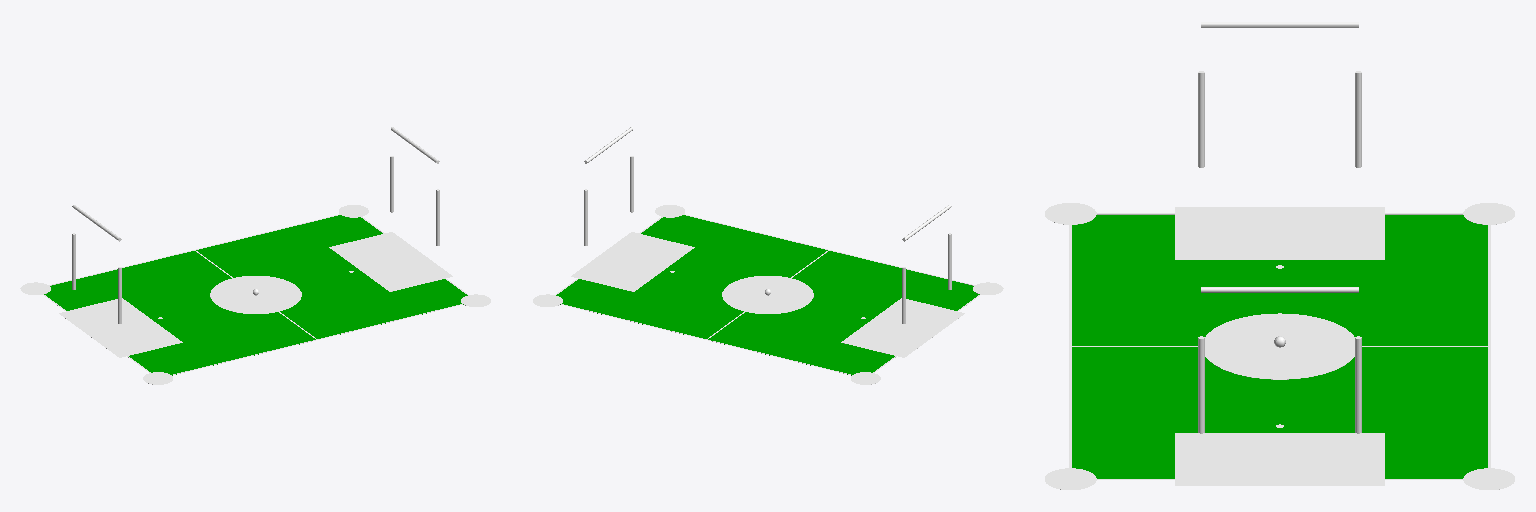
robot.urdf — T1_Soccer_Realistic:
<?xml version="1.0" encoding="utf-8"?>
<robot name="T1_Soccer_Realistic">
  <!-- 世界链接 -->
  <link name="world"/>

  <!-- 足球场地面 -->
  <link name="field_base">
    <inertial>
      <origin xyz="0 0 0" rpy="0 0 0" />
      <mass value="0" />
      <inertia ixx="0" ixy="0" ixz="0" iyy="0" iyz="0" izz="0" />
    </inertial>
    <visual>
      <origin xyz="0 0 0" rpy="0 0 0" />
      <geometry>
        <box size="12 8 0.01" />
      </geometry>
      <material name="green">
        <color rgba="0.0 0.7 0.0 1.0" />
      </material>
    </visual>
    <collision>
      <origin xyz="0 0 0" rpy="0 0 0" />
      <geometry>
        <box size="12 8 0.01" />
      </geometry>
    </collision>
  </link>
  <joint name="world_to_field" type="fixed">
    <parent link="world"/>
    <child link="field_base"/>
    <origin xyz="0 0 0" rpy="0 0 0"/>
  </joint>

  <!-- 边线和底线（用很薄的box模拟） -->
  <!-- 左边线 -->
  <link name="sideline_left">
    <visual>
      <origin xyz="0 4 0.011" rpy="0 0 0" />
      <geometry>
        <box size="12 0.05 0.002" />
      </geometry>
      <material name="white">
        <color rgba="1 1 1 1" />
      </material>
    </visual>
  </link>
  <joint name="field_to_sideline_left" type="fixed">
    <parent link="field_base"/>
    <child link="sideline_left"/>
    <origin xyz="0 0 0" rpy="0 0 0"/>
  </joint>
  <!-- 右边线 -->
  <link name="sideline_right">
    <visual>
      <origin xyz="0 -4 0.011" rpy="0 0 0" />
      <geometry>
        <box size="12 0.05 0.002" />
      </geometry>
      <material name="white">
        <color rgba="1 1 1 1" />
      </material>
    </visual>
  </link>
  <joint name="field_to_sideline_right" type="fixed">
    <parent link="field_base"/>
    <child link="sideline_right"/>
    <origin xyz="0 0 0" rpy="0 0 0"/>
  </joint>
  <!-- 上底线 -->
  <link name="goal_line_top">
    <visual>
      <origin xyz="6 0 0.011" rpy="0 0 1.5708" />
      <geometry>
        <box size="8 0.05 0.002" />
      </geometry>
      <material name="white">
        <color rgba="1 1 1 1" />
      </material>
    </visual>
  </link>
  <joint name="field_to_goal_line_top" type="fixed">
    <parent link="field_base"/>
    <child link="goal_line_top"/>
    <origin xyz="0 0 0" rpy="0 0 0"/>
  </joint>
  <!-- 下底线 -->
  <link name="goal_line_bottom">
    <visual>
      <origin xyz="-6 0 0.011" rpy="0 0 1.5708" />
      <geometry>
        <box size="8 0.05 0.002" />
      </geometry>
      <material name="white">
        <color rgba="1 1 1 1" />
      </material>
    </visual>
  </link>
  <joint name="field_to_goal_line_bottom" type="fixed">
    <parent link="field_base"/>
    <child link="goal_line_bottom"/>
    <origin xyz="0 0 0" rpy="0 0 0"/>
  </joint>

  <!-- 中线 -->
  <link name="center_line">
    <visual>
      <origin xyz="0 0 0.011" rpy="0 0 0" />
      <geometry>
        <box size="0.05 8 0.002" />
      </geometry>
      <material name="white">
        <color rgba="1 1 1 1" />
      </material>
    </visual>
  </link>
  <joint name="field_to_center_line" type="fixed">
    <parent link="field_base"/>
    <child link="center_line"/>
    <origin xyz="0 0 0" rpy="0 0 0"/>
  </joint>

  <!-- 中圈 -->
  <link name="center_circle">
    <visual>
      <origin xyz="0 0 0.011" rpy="0 0 0" />
      <geometry>
        <cylinder radius="1.5" length="0.002" />
      </geometry>
      <material name="white">
        <color rgba="1 1 1 1" />
      </material>
    </visual>
  </link>
  <joint name="field_to_center_circle" type="fixed">
    <parent link="field_base"/>
    <child link="center_circle"/>
    <origin xyz="0 0 0" rpy="0 0 0"/>
  </joint>

  <!-- 点球点 -->
  <link name="penalty_spot_left">
    <visual>
      <origin xyz="-3.6 0 0.012" rpy="0 0 0" />
      <geometry>
        <cylinder radius="0.08" length="0.002" />
      </geometry>
      <material name="white">
        <color rgba="1 1 1 1" />
      </material>
    </visual>
  </link>
  <joint name="field_to_penalty_spot_left" type="fixed">
    <parent link="field_base"/>
    <child link="penalty_spot_left"/>
    <origin xyz="0 0 0" rpy="0 0 0"/>
  </joint>
  <link name="penalty_spot_right">
    <visual>
      <origin xyz="3.6 0 0.012" rpy="0 0 0" />
      <geometry>
        <cylinder radius="0.08" length="0.002" />
      </geometry>
      <material name="white">
        <color rgba="1 1 1 1" />
      </material>
    </visual>
  </link>
  <joint name="field_to_penalty_spot_right" type="fixed">
    <parent link="field_base"/>
    <child link="penalty_spot_right"/>
    <origin xyz="0 0 0" rpy="0 0 0"/>
  </joint>

  <!-- 罚球区（左） -->
  <link name="penalty_box_left">
    <visual>
      <origin xyz="-5.1 0 0.011" rpy="0 0 0" />
      <geometry>
        <box size="2.4 4 0.002" />
      </geometry>
      <material name="white">
        <color rgba="1 1 1 0.2" />
      </material>
    </visual>
  </link>
  <joint name="field_to_penalty_box_left" type="fixed">
    <parent link="field_base"/>
    <child link="penalty_box_left"/>
    <origin xyz="0 0 0" rpy="0 0 0"/>
  </joint>
  <!-- 罚球区（右） -->
  <link name="penalty_box_right">
    <visual>
      <origin xyz="5.1 0 0.011" rpy="0 0 0" />
      <geometry>
        <box size="2.4 4 0.002" />
      </geometry>
      <material name="white">
        <color rgba="1 1 1 0.2" />
      </material>
    </visual>
  </link>
  <joint name="field_to_penalty_box_right" type="fixed">
    <parent link="field_base"/>
    <child link="penalty_box_right"/>
    <origin xyz="0 0 0" rpy="0 0 0"/>
  </joint>

  <!-- 球门区（左） -->
  <link name="goal_box_left">
    <visual>
      <origin xyz="-5.7 0 0.011" rpy="0 0 0" />
      <geometry>
        <box size="0.8 2.2 0.002" />
      </geometry>
      <material name="white">
        <color rgba="1 1 1 0.2" />
      </material>
    </visual>
  </link>
  <joint name="field_to_goal_box_left" type="fixed">
    <parent link="field_base"/>
    <child link="goal_box_left"/>
    <origin xyz="0 0 0" rpy="0 0 0"/>
  </joint>
  <!-- 球门区（右） -->
  <link name="goal_box_right">
    <visual>
      <origin xyz="5.7 0 0.011" rpy="0 0 0" />
      <geometry>
        <box size="0.8 2.2 0.002" />
      </geometry>
      <material name="white">
        <color rgba="1 1 1 0.2" />
      </material>
    </visual>
  </link>
  <joint name="field_to_goal_box_right" type="fixed">
    <parent link="field_base"/>
    <child link="goal_box_right"/>
    <origin xyz="0 0 0" rpy="0 0 0"/>
  </joint>

  <!-- 角球弧（左上、左下、右上、右下） -->
  <link name="corner_arc_topleft">
    <visual>
      <origin xyz="-6 4 0.012" rpy="0 0 0" />
      <geometry>
        <cylinder radius="0.5" length="0.002" />
      </geometry>
      <material name="white">
        <color rgba="1 1 1 0.5" />
      </material>
    </visual>
  </link>
  <joint name="field_to_corner_arc_topleft" type="fixed">
    <parent link="field_base"/>
    <child link="corner_arc_topleft"/>
    <origin xyz="0 0 0" rpy="0 0 0"/>
  </joint>
  <link name="corner_arc_topright">
    <visual>
      <origin xyz="6 4 0.012" rpy="0 0 0" />
      <geometry>
        <cylinder radius="0.5" length="0.002" />
      </geometry>
      <material name="white">
        <color rgba="1 1 1 0.5" />
      </material>
    </visual>
  </link>
  <joint name="field_to_corner_arc_topright" type="fixed">
    <parent link="field_base"/>
    <child link="corner_arc_topright"/>
    <origin xyz="0 0 0" rpy="0 0 0"/>
  </joint>
  <link name="corner_arc_bottomleft">
    <visual>
      <origin xyz="-6 -4 0.012" rpy="0 0 0" />
      <geometry>
        <cylinder radius="0.5" length="0.002" />
      </geometry>
      <material name="white">
        <color rgba="1 1 1 0.5" />
      </material>
    </visual>
  </link>
  <joint name="field_to_corner_arc_bottomleft" type="fixed">
    <parent link="field_base"/>
    <child link="corner_arc_bottomleft"/>
    <origin xyz="0 0 0" rpy="0 0 0"/>
  </joint>
  <link name="corner_arc_bottomright">
    <visual>
      <origin xyz="6 -4 0.012" rpy="0 0 0" />
      <geometry>
        <cylinder radius="0.5" length="0.002" />
      </geometry>
      <material name="white">
        <color rgba="1 1 1 0.5" />
      </material>
    </visual>
  </link>
  <joint name="field_to_corner_arc_bottomright" type="fixed">
    <parent link="field_base"/>
    <child link="corner_arc_bottomright"/>
    <origin xyz="0 0 0" rpy="0 0 0"/>
  </joint>

  <!-- 左球门（圆柱体立柱和横梁） -->
  <link name="goal1_post_left">
    <visual>
      <origin xyz="0 0 1" rpy="0 0 0" />
      <geometry>
        <cylinder radius="0.06" length="2" />
      </geometry>
      <material name="white">
        <color rgba="1 1 1 1" />
      </material>
    </visual>
  </link>
  <joint name="field_to_goal1_post_left" type="fixed">
    <parent link="field_base"/>
    <child link="goal1_post_left"/>
    <origin xyz="-6 1.5 1" rpy="0 0 1.5708"/>
  </joint>
  <link name="goal1_post_right">
    <visual>
      <origin xyz="0 0 1" rpy="0 0 0" />
      <geometry>
        <cylinder radius="0.06" length="2" />
      </geometry>
      <material name="white">
        <color rgba="1 1 1 1" />
      </material>
    </visual>
  </link>
  <joint name="field_to_goal1_post_right" type="fixed">
    <parent link="field_base"/>
    <child link="goal1_post_right"/>
    <origin xyz="-6 -1.5 1" rpy="0 0 1.5708"/>
  </joint>
  <link name="goal1_crossbar">
    <visual>
      <origin xyz="0 0 2" rpy="1.5708 0 0" />
      <geometry>
        <cylinder radius="0.06" length="3" />
      </geometry>
      <material name="white">
        <color rgba="1 1 1 1" />
      </material>
    </visual>
  </link>
  <joint name="field_to_goal1_crossbar" type="fixed">
    <parent link="field_base"/>
    <child link="goal1_crossbar"/>
    <origin xyz="-6 0 2" rpy="0 0 0"/>
  </joint>

  <!-- 右球门（圆柱体立柱和横梁） -->
  <link name="goal2_post_left">
    <visual>
      <origin xyz="0 0 1" rpy="0 0 0" />
      <geometry>
        <cylinder radius="0.06" length="2" />
      </geometry>
      <material name="white">
        <color rgba="1 1 1 1" />
      </material>
    </visual>
  </link>
  <joint name="field_to_goal2_post_left" type="fixed">
    <parent link="field_base"/>
    <child link="goal2_post_left"/>
    <origin xyz="6 1.5 1" rpy="0 0 1.5708"/>
  </joint>
  <link name="goal2_post_right">
    <visual>
      <origin xyz="0 0 1" rpy="0 0 0" />
      <geometry>
        <cylinder radius="0.06" length="2" />
      </geometry>
      <material name="white">
        <color rgba="1 1 1 1" />
      </material>
    </visual>
  </link>
  <joint name="field_to_goal2_post_right" type="fixed">
    <parent link="field_base"/>
    <child link="goal2_post_right"/>
    <origin xyz="6 -1.5 1" rpy="0 0 1.5708"/>
  </joint>
  <link name="goal2_crossbar">
    <visual>
      <origin xyz="0 0 2" rpy="1.5708 0 0" />
      <geometry>
        <cylinder radius="0.06" length="3" />
      </geometry>
      <material name="white">
        <color rgba="1 1 1 1" />
      </material>
    </visual>
  </link>
  <joint name="field_to_goal2_crossbar" type="fixed">
    <parent link="field_base"/>
    <child link="goal2_crossbar"/>
    <origin xyz="6 0 2" rpy="0 0 0"/>
  </joint>

  <!-- 足球 -->
  <link name="soccer_ball">
    <inertial>
      <origin xyz="0 0 0" rpy="0 0 0" />
      <mass value="0.45" />
      <inertia ixx="0.001" ixy="0" ixz="0" iyy="0.001" iyz="0" izz="0.001" />
    </inertial>
    <visual>
      <origin xyz="0 0 0" rpy="0 0 0" />
      <geometry>
        <sphere radius="0.11" />
      </geometry>
      <material name="ball_color">
        <color rgba="1 1 1 1" />
      </material>
    </visual>
    <collision>
      <origin xyz="0 0 0" rpy="0 0 0" />
      <geometry>
        <sphere radius="0.11" />
      </geometry>
    </collision>
  </link>
  <joint name="ball_joint" type="floating">
    <origin xyz="0 0 0.11" rpy="0 0 0" />
    <parent link="field_base" />
    <child link="soccer_ball" />
  </joint>
</robot> 

--- Render facts (derived) ---
Views: 3 orthographic renders of the robot side by side, from view 1: azimuth 30°, elevation 25°; view 2: azimuth 150°, elevation 25°; view 3: azimuth 270°, elevation 25°.
Model T1_Soccer_Realistic with 25 links and 24 joints (23 fixed, 1 floating), rooted at world, posed every joint at zero.
Links seen in each view (by area): view 1: field_base, penalty_box_left, penalty_box_right, center_circle, goal_box_right; view 2: field_base, penalty_box_left, penalty_box_right, center_circle; view 3: field_base, penalty_box_left, penalty_box_right, center_circle, goal_box_right, goal1_crossbar, goal2_crossbar, corner_arc_topleft, corner_arc_bottomleft, corner_arc_topright, corner_arc_bottomright, sideline_left (+5 smaller).
Link boxes in pixels (x1,y1,x2,y2): field_base: (44,215,467,375); penalty_box_left: (59,298,182,357); penalty_box_right: (329,232,452,291); center_circle: (210,276,301,313); goal_box_right: (380,244,433,272); field_base: (556,215,979,375); penalty_box_left: (841,298,964,357); penalty_box_right: (571,232,694,291); center_circle: (722,276,813,313); field_base: (1072,215,1487,478); penalty_box_left: (1175,207,1384,259); penalty_box_right: (1175,433,1384,485); center_circle: (1205,313,1354,379); goal_box_right: (1222,464,1337,481); goal1_crossbar: (1201,22,1358,27); goal2_crossbar: (1201,287,1358,292); corner_arc_topleft: (1463,203,1514,224); corner_arc_bottomleft: (1045,203,1096,224); corner_arc_topright: (1463,468,1514,489); corner_arc_bottomright: (1045,468,1096,489); sideline_left: (1488,225,1490,467).
Size in the robot's own frame: 13 by 9 by 4.07 metres.
Geometry: primitives only (box / cylinder / sphere), no mesh files.
